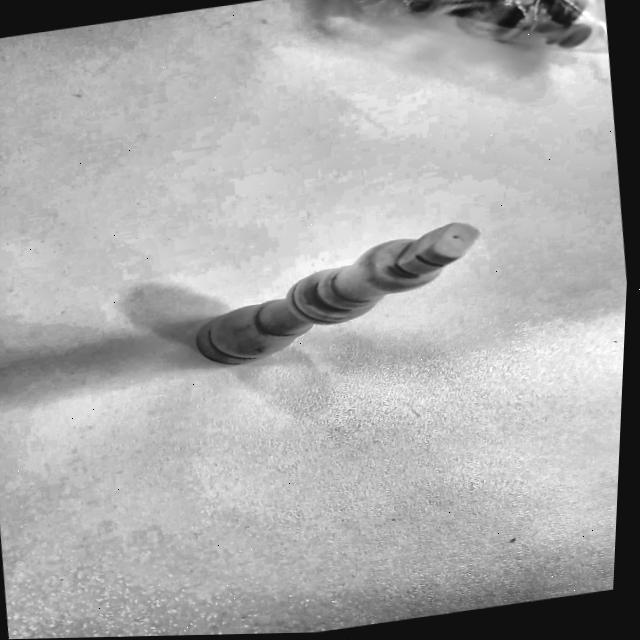white-king: (183, 221, 479, 364)
